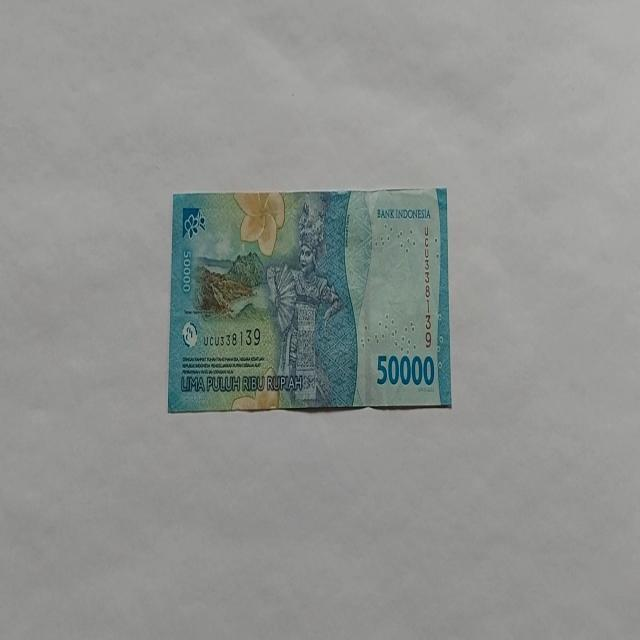lima puluh ribu rupiah: (166, 186, 452, 414)
